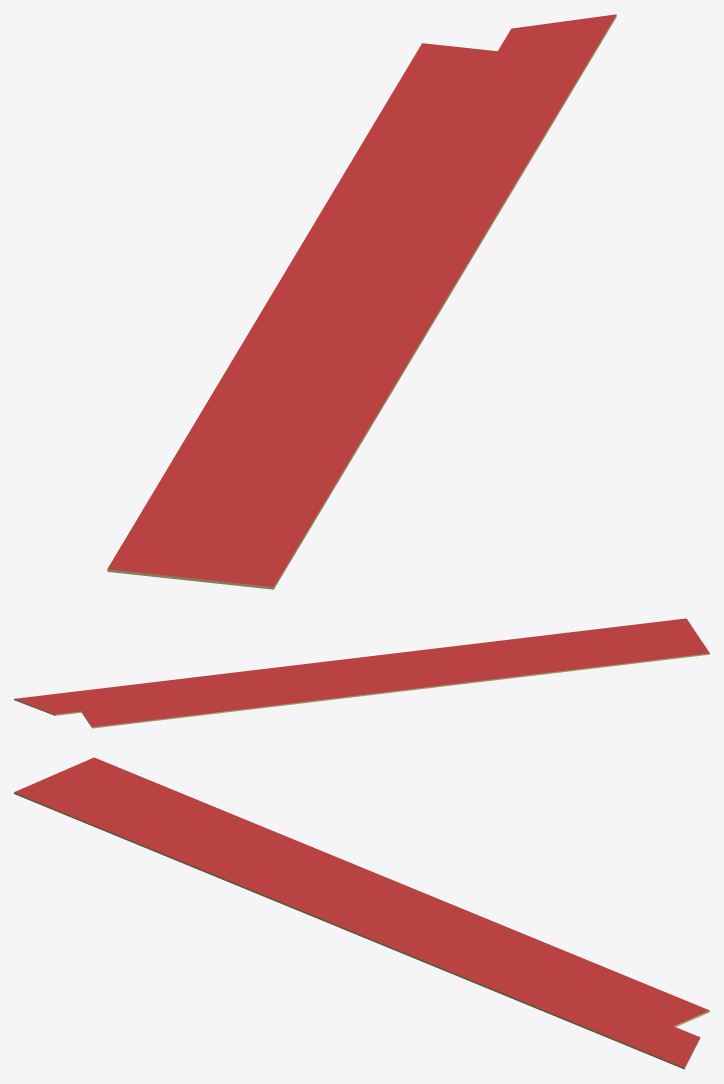
3 renders of one model, top to bottom at view 1: azimuth 30°, elevation 25°; view 2: azimuth 150°, elevation 25°; view 3: azimuth 270°, elevation 25°, orthographic. The views are drawn at different scales.
Parts seen in each view (by area): view 1: group_3, group_4; view 2: group_3, group_4; view 3: group_3, group_4.
Part boxes in pixels (x1=…): group_3: x1=107, y1=14, x2=616, y2=586; group_4: x1=107, y1=15, x2=616, y2=589; group_3: x1=14, y1=618, x2=709, y2=727; group_4: x1=14, y1=653, x2=709, y2=728; group_3: x1=14, y1=757, x2=709, y2=1067; group_4: x1=14, y1=792, x2=709, y2=1069.
Size of the model in its own units: 37.88 by 35.9 by 0.1.
